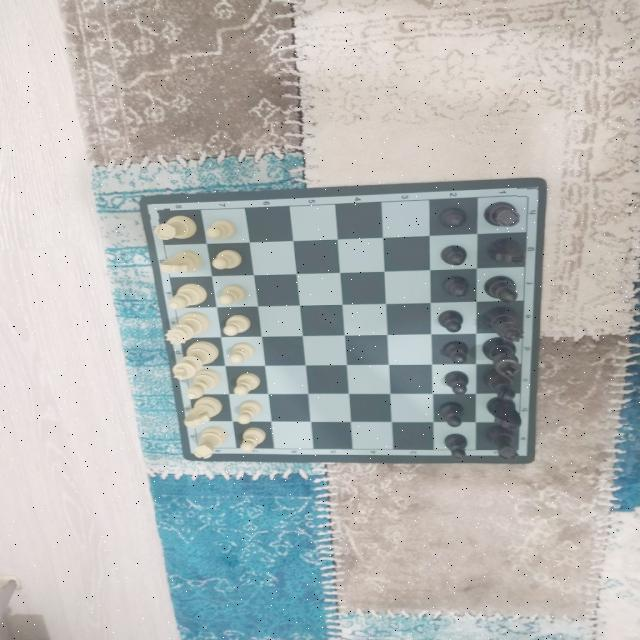corner: (512, 185, 540, 207), (146, 204, 170, 220), (509, 444, 527, 456)
